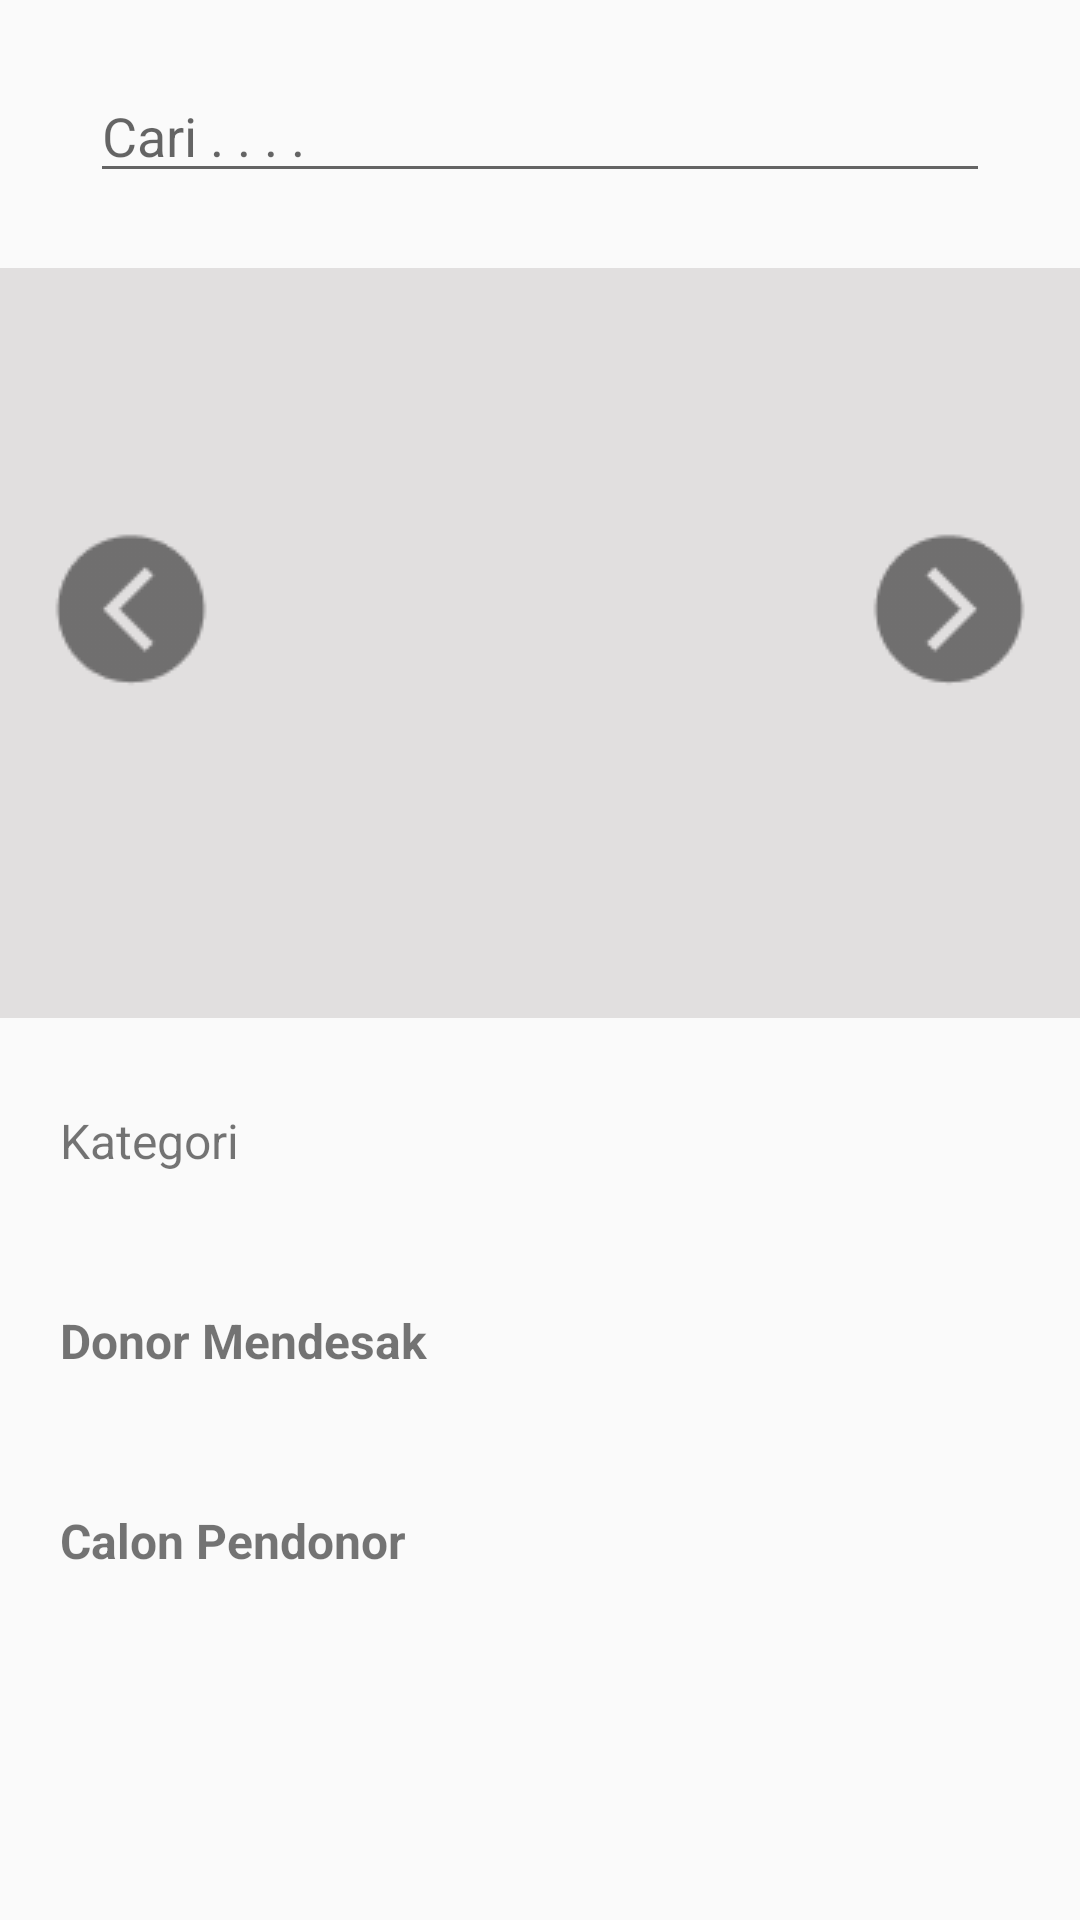

Icon click points for this 1080w x 1920h phone screenshot, format point (x, y):
next: point (949, 609)
prev: point (131, 609)
